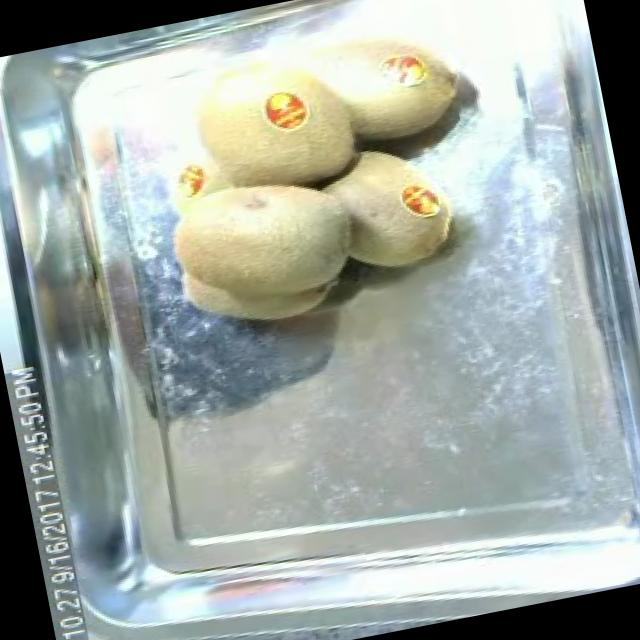Fruit: (150, 160, 380, 350), (276, 0, 480, 178), (312, 123, 473, 290), (250, 69, 324, 142)
